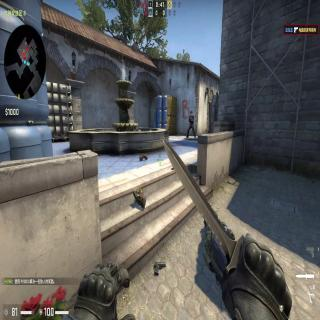T-Body: (186, 110, 196, 140)
T-Head: (190, 110, 193, 116)
